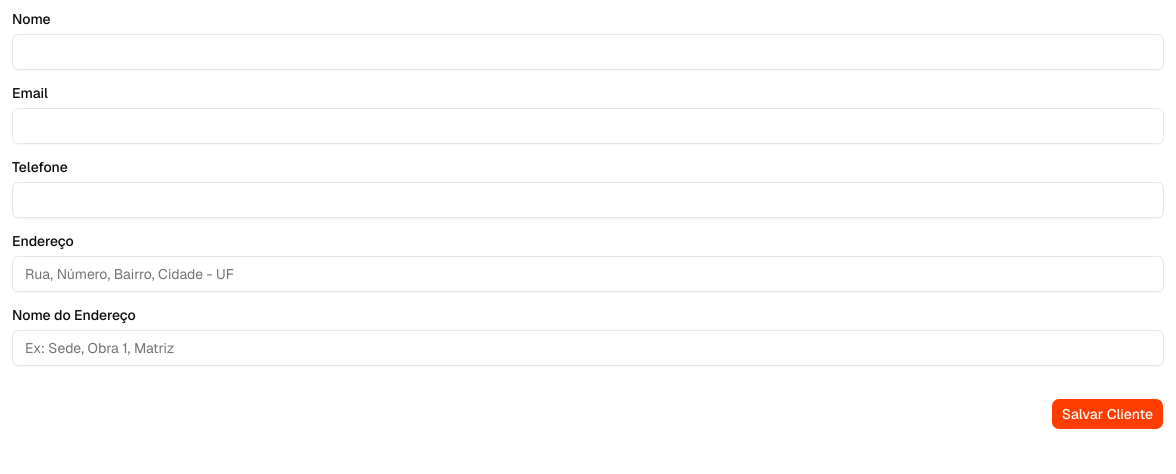
ClientForm › validates required fields
Click the button "Salvar Cliente": point(1107, 414) [1051, 398, 1164, 430]
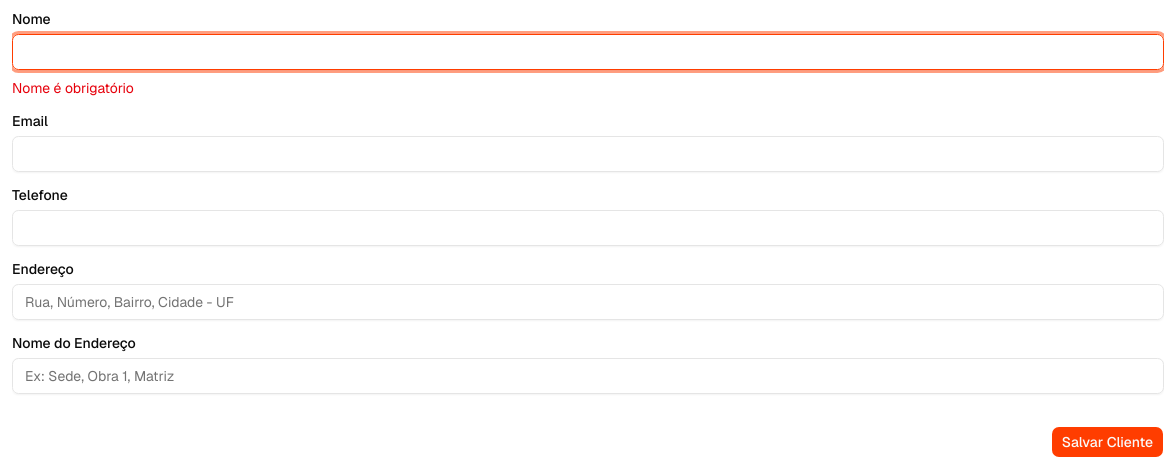
Expected: the text "Nome é obrigatório" is shown, [12, 79, 134, 97]
